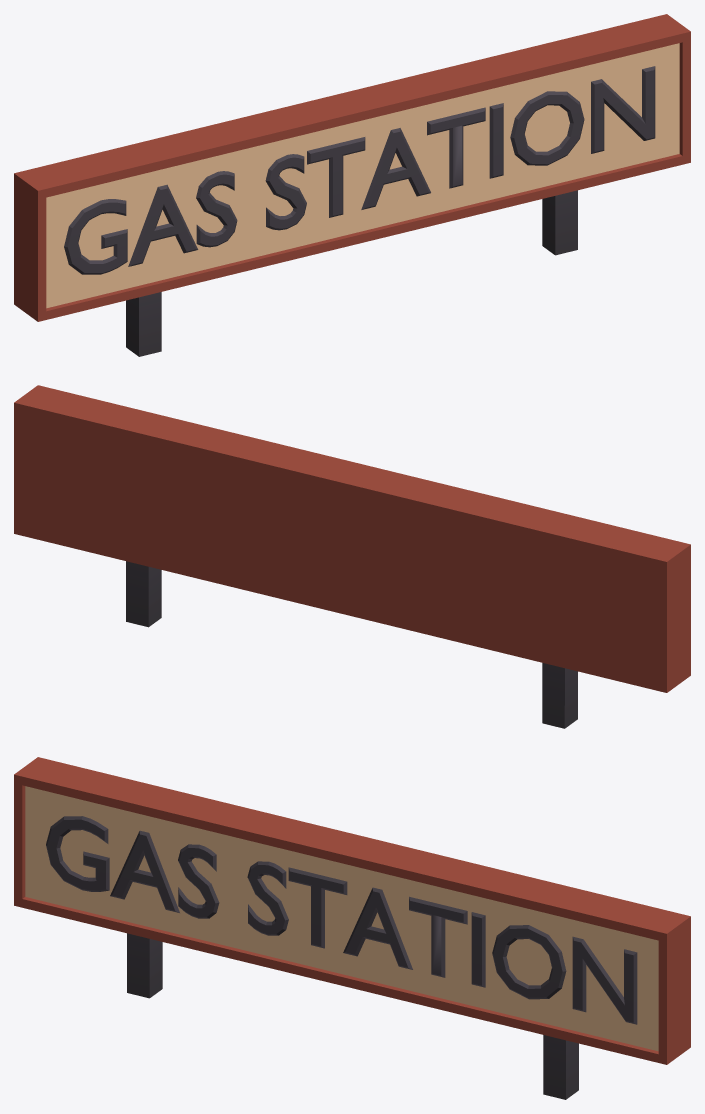
The model's file is Banner_06.fbx.
3 views of the same model, one above another, from view 1: azimuth 30°, elevation 25°; view 2: azimuth 150°, elevation 25°; view 3: azimuth 330°, elevation 25° (orthographic).
Parts seen in each view (by area): view 1: Banner_06; view 2: Banner_06; view 3: Banner_06.
Part boxes in pixels (left/top/right/bottom): Banner_06: left=14, top=14, right=690, bottom=356; Banner_06: left=14, top=385, right=690, bottom=728; Banner_06: left=14, top=757, right=690, bottom=1099.
Size of the model in its own units: 439 by 126 by 28.01.
